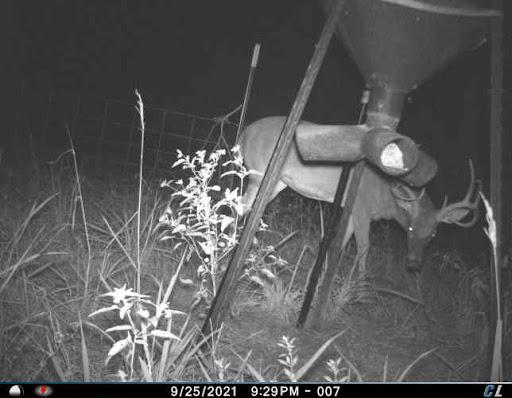Deer: (217, 113, 482, 306)
